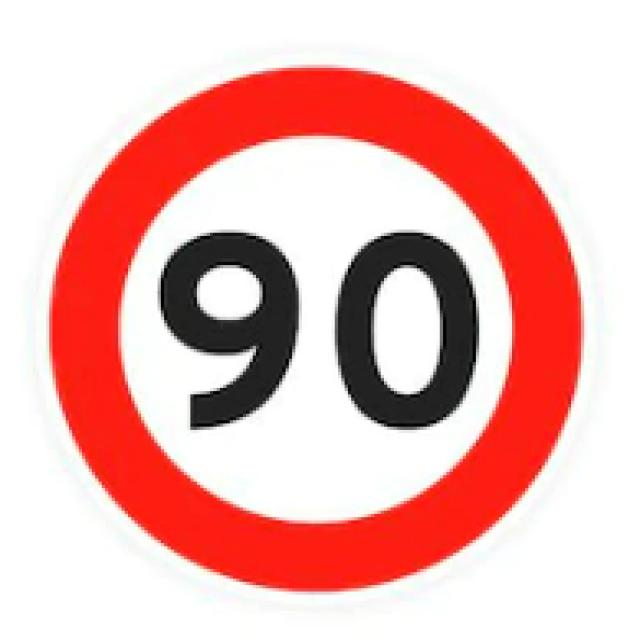Speed Limit -90-: (148, 226, 482, 437)
